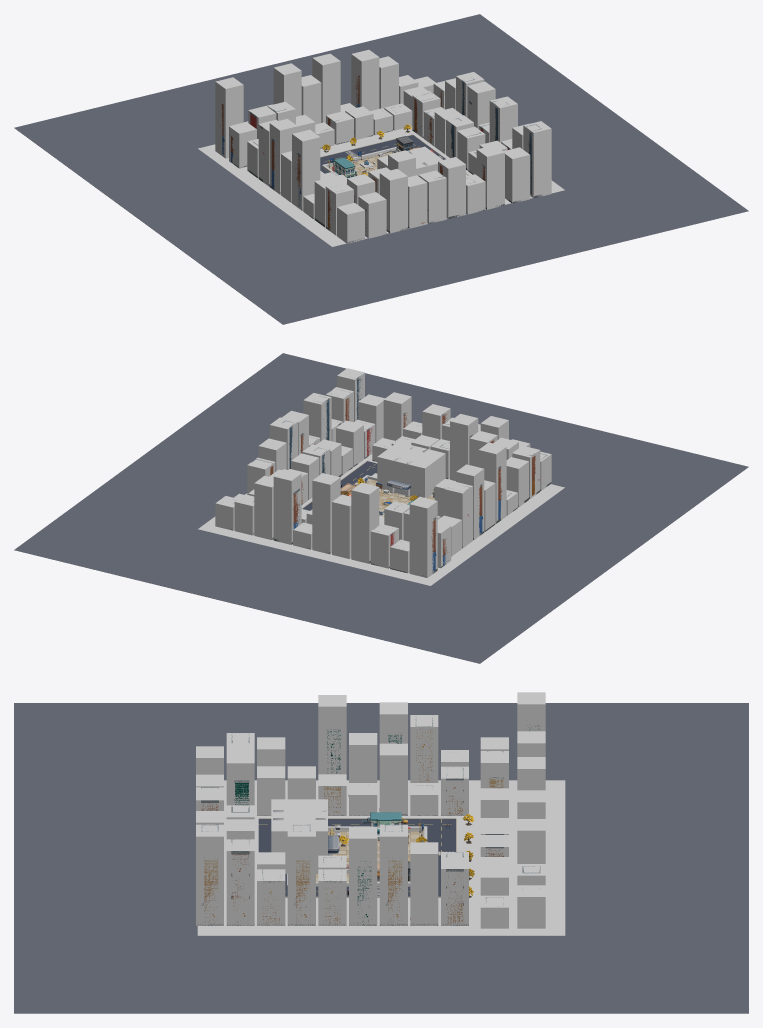
Rendered from town.fbx.
3 renders of one model, top to bottom at view 1: azimuth 30°, elevation 25°; view 2: azimuth 150°, elevation 25°; view 3: azimuth 270°, elevation 25°, orthographic. The views are drawn at different scales.
Visible parts, largest first — view 1: City_Ground, Col_Ground, Kit_Props, Col_Building_-48_-16, Col_Building_48_-56, Col_Building_-50_49, Col_Building_20_49, Col_Building_-26_-56, Col_Building_24_-56, Col_Building_0_49, Col_Building_37_-56, Col_Building_4_-56 (+25 smaller); view 2: City_Ground, Col_Ground, Col_HQ_Body, Kit_Props, Col_Building_-50_49, Col_Building_-20_49, Col_Building_20_49, Col_Building_0_49, Col_Building_-48_-16, Col_Building_-16_-46, Col_Building_-48_14, Col_Building_-10_49 (+23 smaller); view 3: City_Ground, Col_Ground, Kit_Props, Col_Building_48_-26, Col_Building_48_4, Col_Building_48_-6, Col_Building_48_-56, Col_Building_48_-46, Col_Building_48_14, Col_HQ_Body, Col_Building_-48_-16, Col_Building_-37_4 (+30 smaller).
Boxes of the visible parts, x1,y1,x2,y2 form: City_Ground: (14, 14, 748, 324); Col_Ground: (198, 126, 564, 246); Kit_Props: (220, 75, 542, 243); Col_Building_-48_-16: (292, 129, 320, 210); Col_Building_48_-56: (523, 121, 551, 198); Col_Building_-50_49: (215, 77, 243, 158); Col_Building_20_49: (351, 49, 379, 110); Col_Building_-26_-56: (379, 168, 407, 233); Col_Building_24_-56: (476, 145, 504, 209); Col_Building_0_49: (312, 53, 340, 122); Col_Building_37_-56: (503, 147, 530, 203); Col_Building_4_-56: (438, 157, 465, 219); City_Ground: (14, 353, 748, 663); Col_Ground: (198, 454, 564, 585); Col_HQ_Body: (377, 442, 445, 497); Kit_Props: (222, 374, 551, 576); Col_Building_-50_49: (409, 496, 437, 577); Col_Building_-20_49: (351, 482, 379, 563); Col_Building_20_49: (273, 469, 301, 544); Col_Building_0_49: (312, 473, 340, 554); Col_Building_-48_-16: (478, 442, 506, 523); Col_Building_-16_-46: (450, 414, 478, 480); Col_Building_-48_14: (445, 481, 472, 547); Col_Building_-10_49: (332, 494, 351, 559); City_Ground: (14, 703, 748, 1013); Col_Ground: (197, 780, 565, 935); Kit_Props: (195, 715, 540, 925); Col_Building_48_-26: (287, 824, 315, 925); Col_Building_48_4: (379, 824, 407, 925); Col_Building_48_-6: (349, 826, 377, 925); Col_Building_48_-56: (196, 824, 223, 925); Col_Building_48_-46: (226, 839, 254, 925); Col_Building_48_14: (410, 842, 438, 925); Col_HQ_Body: (271, 799, 327, 873); Col_Building_-48_-16: (318, 695, 346, 774); Col_Building_-37_4: (379, 743, 407, 815).
Size of the model in its own units: 240 by 34.7 by 240.
